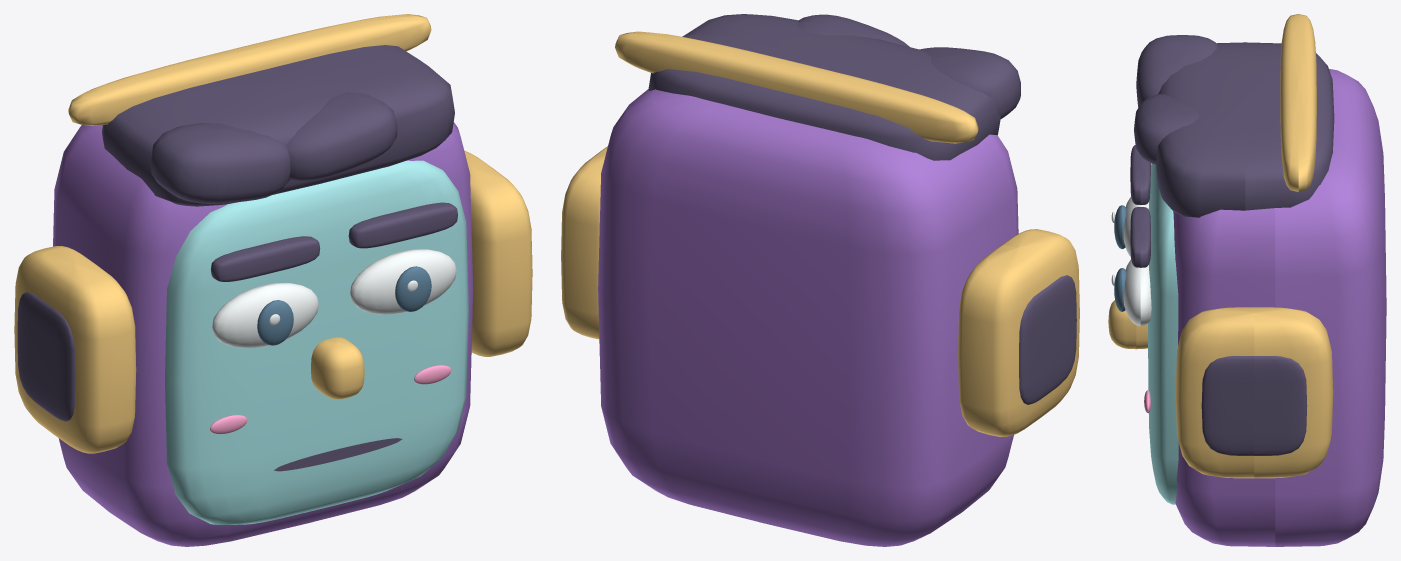
The model's file is gbabu_face.glb.
The picture shows the model from 3 angles, left to right: view 1: azimuth 30°, elevation 25°; view 2: azimuth 150°, elevation 25°; view 3: azimuth 270°, elevation 25°; orthographic projection. The views are drawn at different scales.
Parts seen in each view (by area): view 1: Gbabu_1, Gbabu_2, Gbabu_3, Gbabu_0, Gbabu_4, Gbabu_5, Gbabu_6; view 2: Gbabu_0, Gbabu_3, Gbabu_2; view 3: Gbabu_0, Gbabu_2, Gbabu_3, Gbabu_1, Gbabu_4, Gbabu_5.
Part boxes in pixels (x1=…): Gbabu_1: x1=165, y1=160, x2=468, y2=524; Gbabu_2: x1=17, y1=45, x2=457, y2=471; Gbabu_3: x1=14, y1=14, x2=532, y2=453; Gbabu_0: x1=53, y1=122, x2=473, y2=546; Gbabu_4: x1=212, y1=249, x2=456, y2=348; Gbabu_5: x1=257, y1=266, x2=431, y2=345; Gbabu_6: x1=210, y1=365, x2=451, y2=434; Gbabu_0: x1=598, y1=89, x2=1018, y2=546; Gbabu_3: x1=561, y1=31, x2=1079, y2=436; Gbabu_2: x1=648, y1=14, x2=1076, y2=404; Gbabu_0: x1=1173, y1=69, x2=1386, y2=546; Gbabu_2: x1=1130, y1=35, x2=1334, y2=455; Gbabu_3: x1=1108, y1=14, x2=1333, y2=478; Gbabu_1: x1=1148, y1=163, x2=1178, y2=504; Gbabu_4: x1=1111, y1=196, x2=1151, y2=325; Gbabu_5: x1=1114, y1=205, x2=1126, y2=311.
Bounding box in the file's own units: 2.15 × 1.97 × 1.2.
